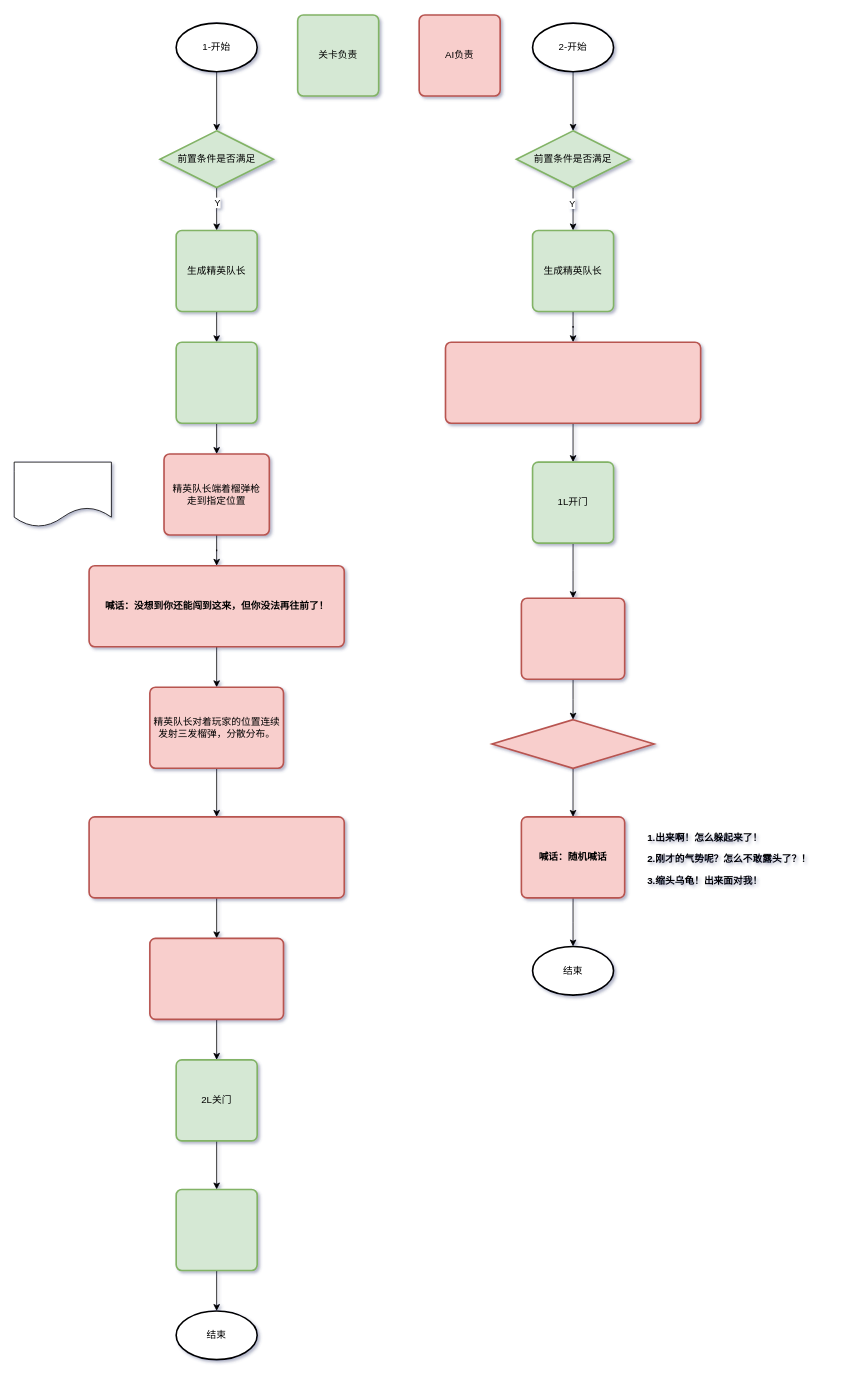
The diagram is 859 pixels wide and 1379 high, and some of its shapes have lost their labels. Here are the shapes that lost their labels. From the top down, the centre of each, then its label:
At (x=216, y=382): "2L开门".
At (x=572, y=382): "喊话： 没想到你还有两下子，但你这次真的死到临头了！".
At (x=62, y=494): "看如何获取位置".
At (x=572, y=638): "精英队长直接进战".
At (x=572, y=743): "当玩家在掩体躲着超过3s时".
At (x=216, y=857): "喊话： 所有人都出动，不能让他接近老板！".
At (x=216, y=978): "然后转身，大摇大摆的走回去".
At (x=216, y=1229): "走到指定位置销毁精英保安".
